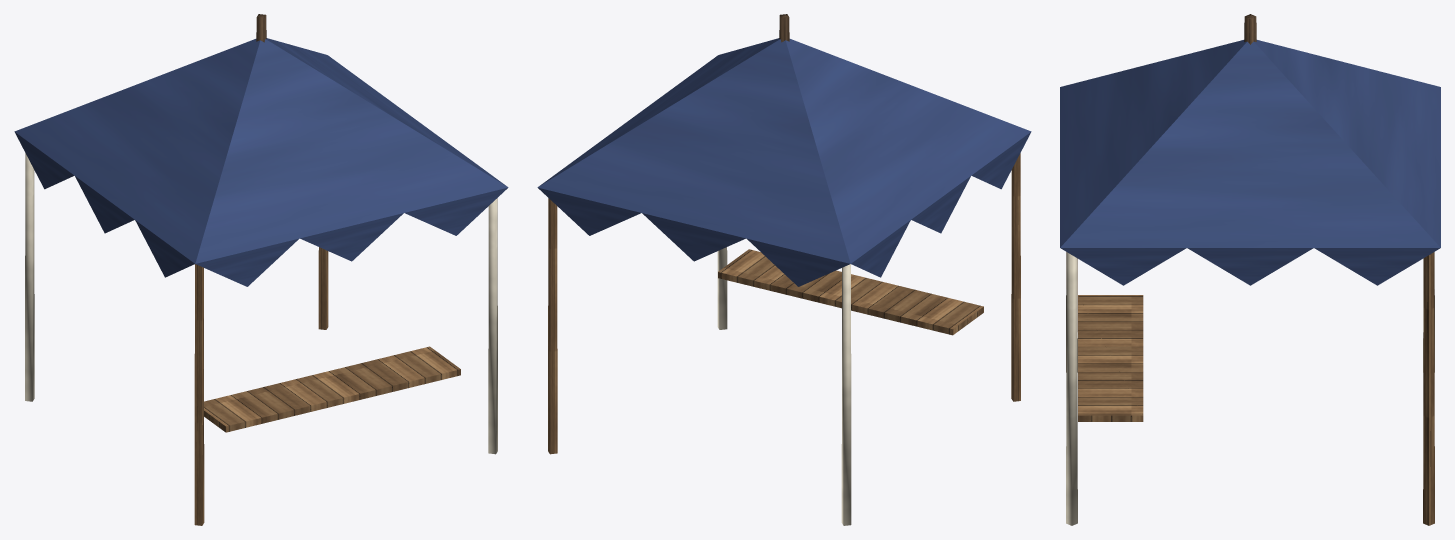
File: Stall_Tent_Market_3_LOD1.gltf
The picture shows the model from 3 angles, left to right: view 1: azimuth 30°, elevation 25°; view 2: azimuth 150°, elevation 25°; view 3: azimuth 270°, elevation 25°; orthographic projection. The views are drawn at different scales.
Parts seen in each view (by area): view 1: Stall_Tent_Market_3_LOD1; view 2: Stall_Tent_Market_3_LOD1; view 3: Stall_Tent_Market_3_LOD1.
Boxes of the visible parts, x1,y1,x2,y2 form: Stall_Tent_Market_3_LOD1: [14, 14, 508, 525]; Stall_Tent_Market_3_LOD1: [537, 14, 1031, 525]; Stall_Tent_Market_3_LOD1: [1060, 14, 1440, 525].
Size of the model in its own units: 3.2 by 4 by 3.2.
4 materials, 4 textured.
